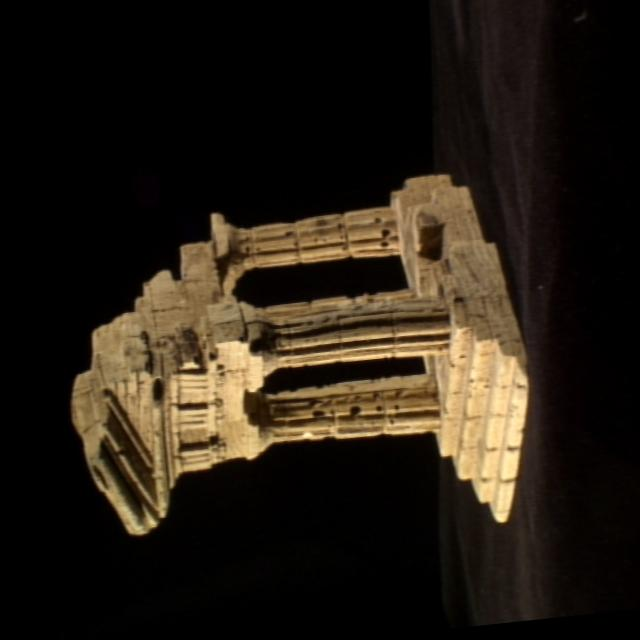Instance-Segmentation: (72, 176, 528, 534)
